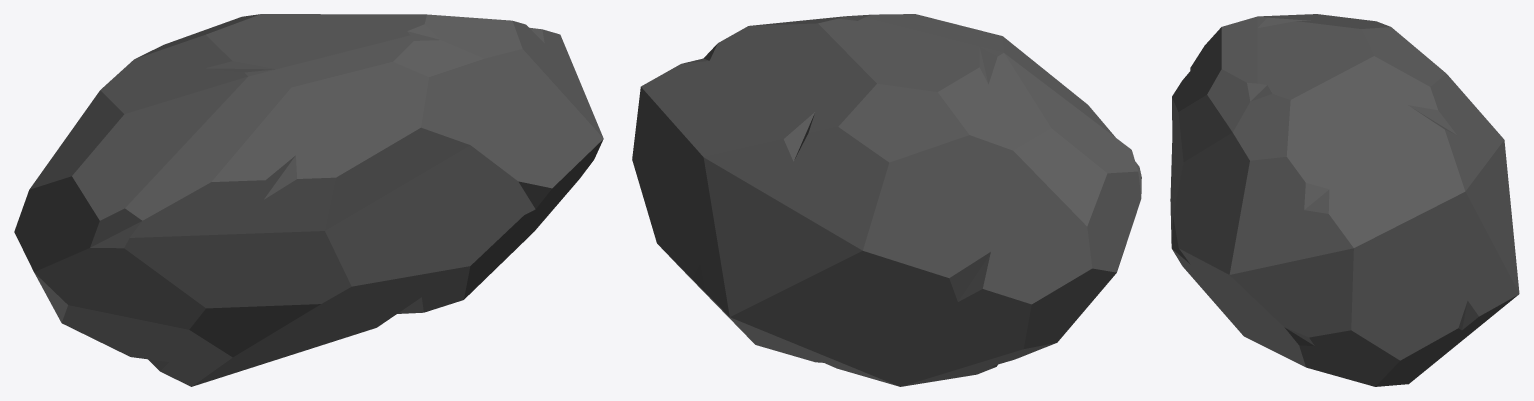
File: Rock.fbx
3 renders of one model, left to right at view 1: azimuth 30°, elevation 25°; view 2: azimuth 150°, elevation 25°; view 3: azimuth 270°, elevation 25°, orthographic. The views are drawn at different scales.
Parts seen in each view (by area): view 1: Rock; view 2: Rock; view 3: Rock.
Boxes of the visible parts, box(x1,y1,x2,y2) form: Rock: box(14, 14, 603, 386); Rock: box(632, 14, 1141, 386); Rock: box(1170, 14, 1519, 386).
Size of the model in its own units: 0.4263 by 0.2517 by 0.2695.
